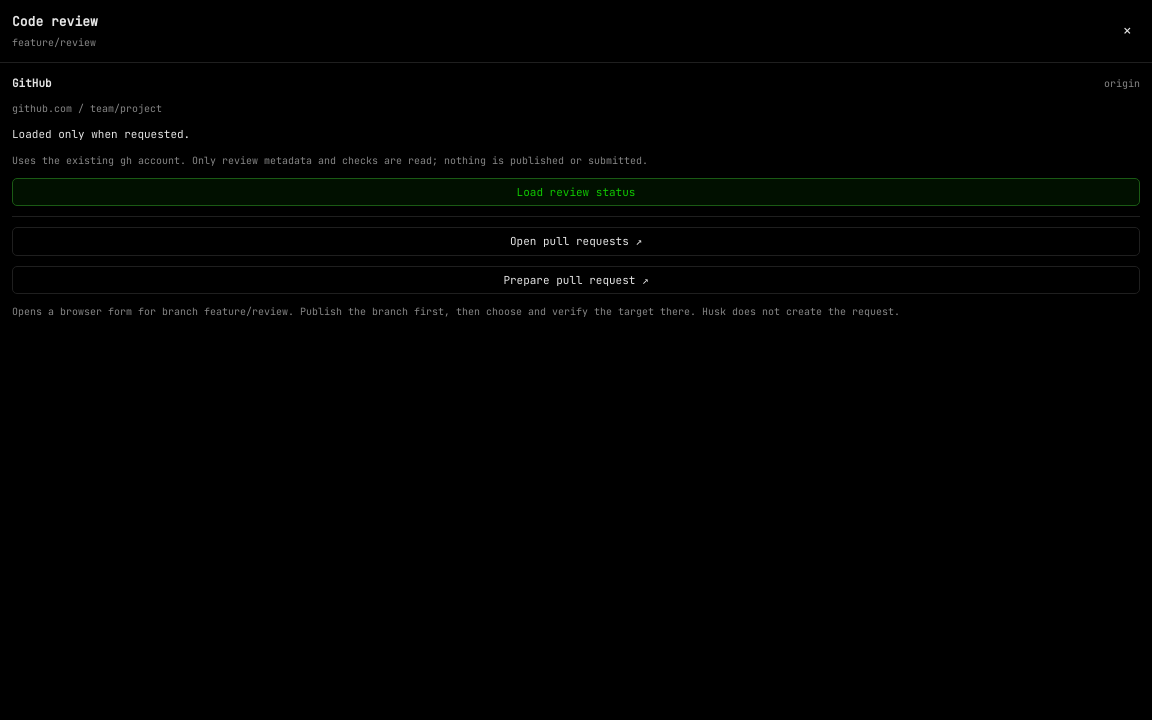
distinguishes no checks from passing checks and failed checks loading
Click the button "Load review status". click: (576, 192)
box: x1=12 y1=178 x2=1140 y2=206
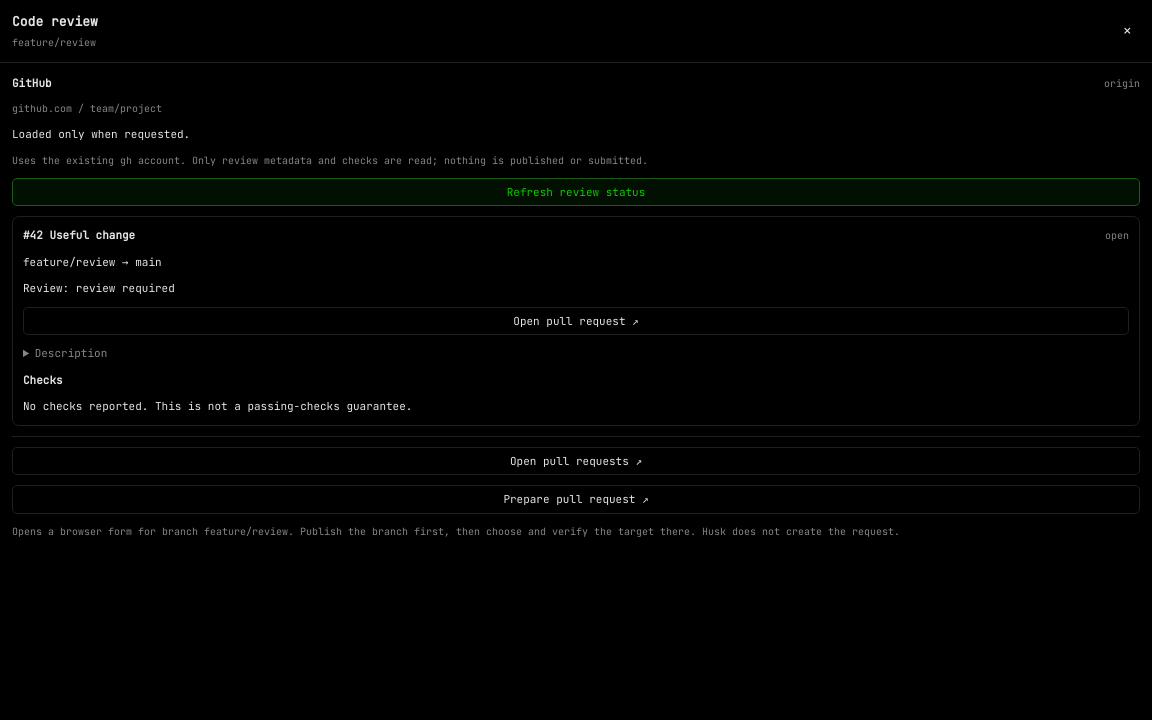
Expected: the text "This is not a passing-checks guarantee" is shown, x1=23 y1=399 x2=412 y2=413
Click the button "Refresh review status". click: (576, 192)
box: x1=12 y1=178 x2=1140 y2=206
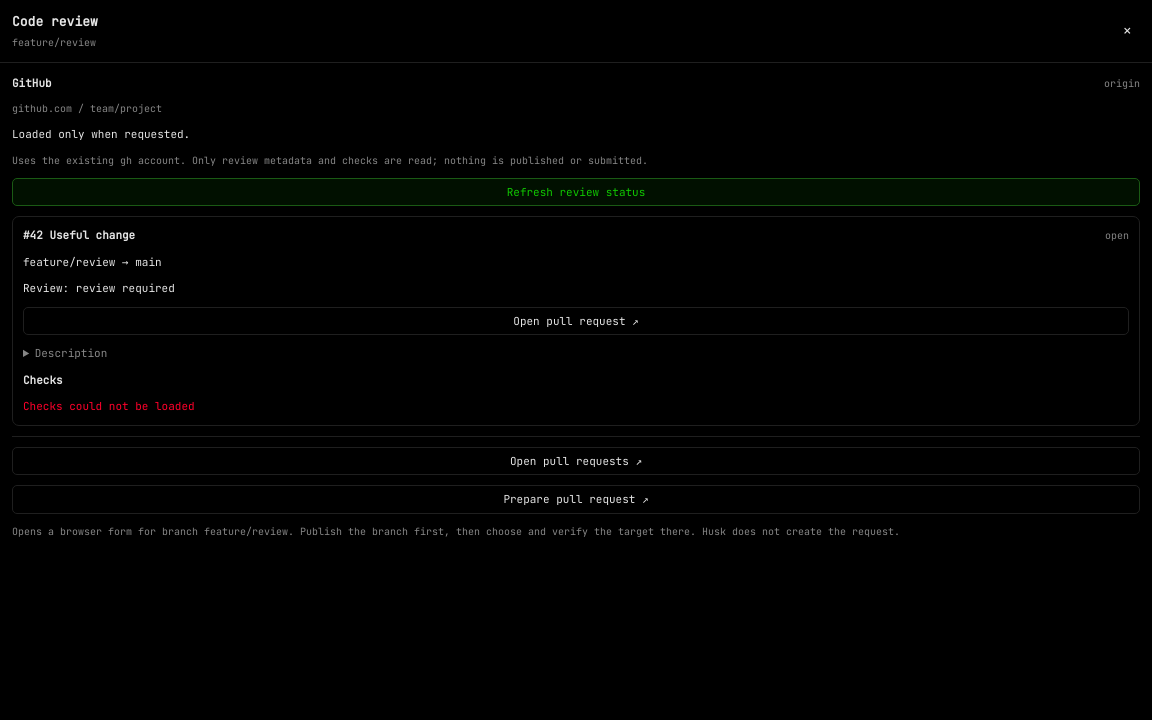
Expected: the message "Checks could not be loaded" is shown, x1=23 y1=399 x2=195 y2=413
